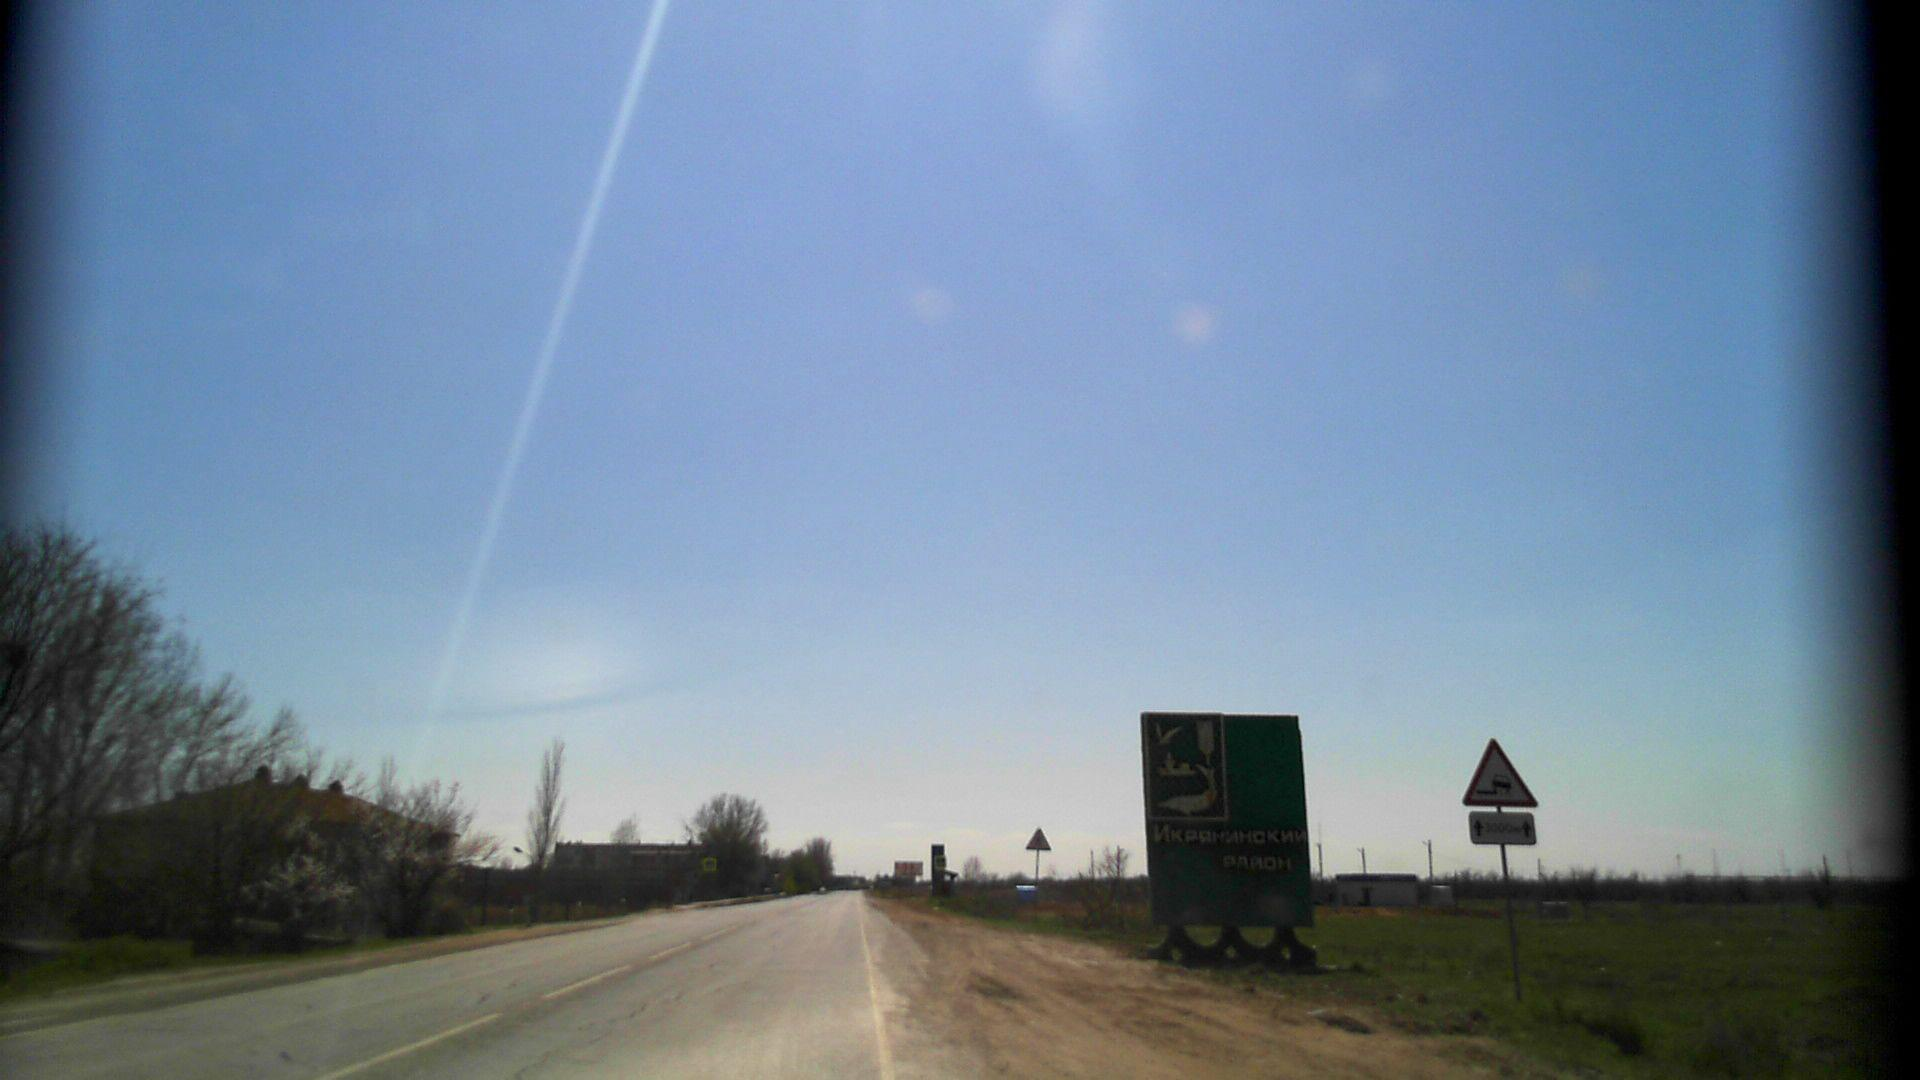1_19: (1455, 735, 1540, 804)
1_22: (1023, 827, 1051, 852)
5_19_1: (936, 856, 947, 869)
5_19_2: (703, 857, 717, 870)
8_2_1: (1466, 808, 1536, 845)
